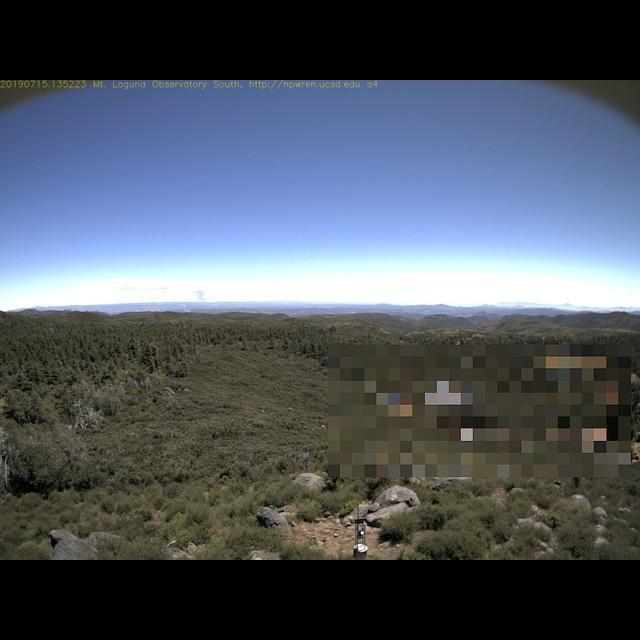Smoke: (190, 284, 208, 309)
